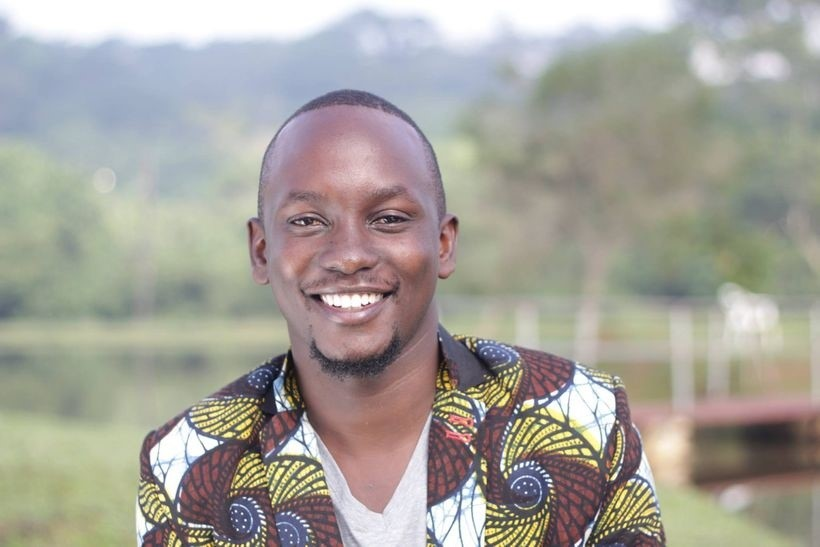face_no_mask: (249, 93, 458, 380)
